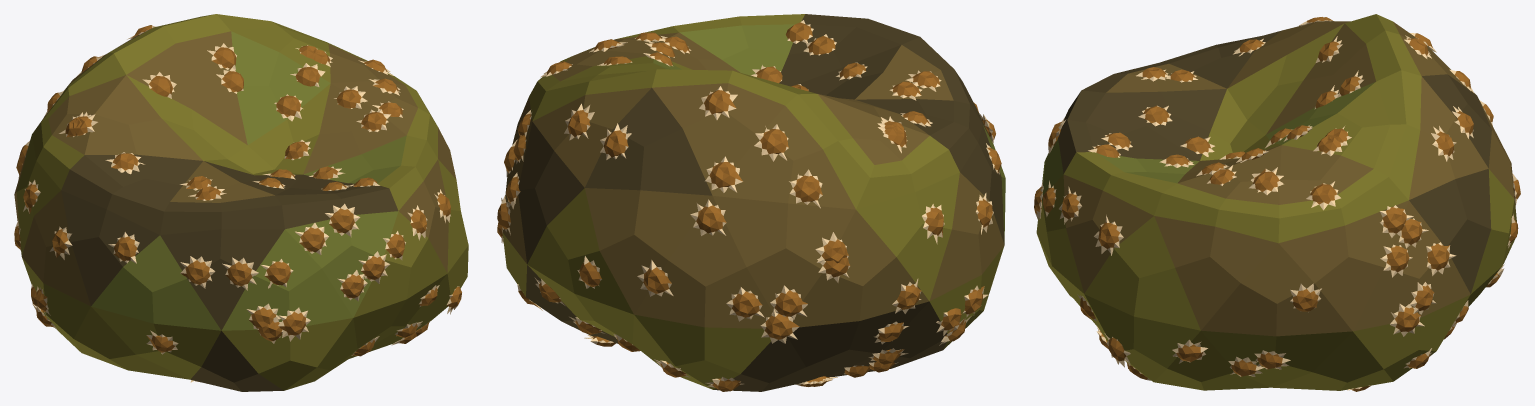
Rendered from easter-egg-cactus.fbx.
The picture shows the model from 3 angles, left to right: view 1: azimuth 30°, elevation 25°; view 2: azimuth 150°, elevation 25°; view 3: azimuth 270°, elevation 25°; orthographic projection. The views are drawn at different scales.
Parts seen in each view (by area): view 1: Icosphere, Icosphere|Icosphere.001|Dupli|39, Icosphere|Icosphere.001|Dupli|33, Icosphere|Icosphere.001|Dupli|36, Icosphere|Icosphere.001|Dupli|32, Icosphere|Icosphere.001|Dupli|40, Icosphere|Icosphere.001|Dupli|37, Icosphere|Icosphere.001|Dupli|31, Icosphere|Icosphere.001|Dupli|34, Icosphere|Icosphere.001|Dupli|38, Icosphere|Icosphere.001|Dupli|35, Icosphere|Icosphere.001|Dupli|83 (+11 smaller); view 2: Icosphere, Icosphere|Icosphere.001|Dupli|25, Icosphere|Icosphere.001|Dupli|14, Icosphere|Icosphere.001|Dupli|24, Icosphere|Icosphere.001|Dupli|16, Icosphere|Icosphere.001|Dupli|17, Icosphere|Icosphere.001|Dupli|27, Icosphere|Icosphere.001|Dupli|26, Icosphere|Icosphere.001|Dupli|15, Icosphere|Icosphere.001|Dupli|28, Icosphere|Icosphere.001|Dupli|12, Icosphere|Icosphere.001|Dupli|13 (+10 smaller); view 3: Icosphere, Icosphere|Icosphere.001|Dupli|20, Icosphere|Icosphere.001|Dupli|42, Icosphere|Icosphere.001|Dupli|18, Icosphere|Icosphere.001|Dupli|22, Icosphere|Icosphere.001|Dupli|23, Icosphere|Icosphere.001|Dupli|62, Icosphere|Icosphere.001|Dupli|98, Icosphere|Icosphere.001|Dupli|82, Icosphere|Icosphere.001|Dupli|21, Icosphere|Icosphere.001|Dupli|2, Icosphere|Icosphere.001|Dupli|19 (+5 smaller).
Boxes of the visible parts, <box> form: Icosphere: <box>14,14,468,391</box>; Icosphere|Icosphere.001|Dupli|39: <box>325,203,360,237</box>; Icosphere|Icosphere.001|Dupli|33: <box>222,257,258,290</box>; Icosphere|Icosphere.001|Dupli|36: <box>278,307,310,341</box>; Icosphere|Icosphere.001|Dupli|32: <box>180,256,215,288</box>; Icosphere|Icosphere.001|Dupli|40: <box>295,223,328,254</box>; Icosphere|Icosphere.001|Dupli|37: <box>358,251,390,283</box>; Icosphere|Icosphere.001|Dupli|31: <box>108,232,139,263</box>; Icosphere|Icosphere.001|Dupli|34: <box>261,259,293,288</box>; Icosphere|Icosphere.001|Dupli|38: <box>337,270,367,301</box>; Icosphere|Icosphere.001|Dupli|35: <box>246,303,280,335</box>; Icosphere|Icosphere.001|Dupli|83: <box>274,94,302,121</box>; Icosphere: <box>502,14,1005,391</box>; Icosphere|Icosphere.001|Dupli|25: <box>690,199,726,235</box>; Icosphere|Icosphere.001|Dupli|14: <box>705,156,742,192</box>; Icosphere|Icosphere.001|Dupli|24: <box>760,309,799,343</box>; Icosphere|Icosphere.001|Dupli|16: <box>789,169,822,208</box>; Icosphere|Icosphere.001|Dupli|17: <box>754,124,788,161</box>; Icosphere|Icosphere.001|Dupli|27: <box>726,287,764,321</box>; Icosphere|Icosphere.001|Dupli|26: <box>637,260,673,296</box>; Icosphere|Icosphere.001|Dupli|15: <box>699,86,737,120</box>; Icosphere|Icosphere.001|Dupli|28: <box>770,285,807,319</box>; Icosphere|Icosphere.001|Dupli|12: <box>600,123,631,159</box>; Icosphere|Icosphere.001|Dupli|13: <box>564,103,594,140</box>; Icosphere: <box>1036,14,1517,390</box>; Icosphere|Icosphere.001|Dupli|20: <box>1390,304,1424,336</box>; Icosphere|Icosphere.001|Dupli|42: <box>1094,215,1123,255</box>; Icosphere|Icosphere.001|Dupli|18: <box>1380,205,1413,237</box>; Icosphere|Icosphere.001|Dupli|22: <box>1380,244,1412,277</box>; Icosphere|Icosphere.001|Dupli|23: <box>1426,242,1456,275</box>; Icosphere|Icosphere.001|Dupli|62: <box>1290,283,1321,312</box>; Icosphere|Icosphere.001|Dupli|98: <box>1249,167,1283,194</box>; Icosphere|Icosphere.001|Dupli|82: <box>1306,181,1340,210</box>; Icosphere|Icosphere.001|Dupli|21: <box>1409,282,1435,314</box>; Icosphere|Icosphere.001|Dupli|2: <box>1172,339,1207,363</box>; Icosphere|Icosphere.001|Dupli|19: <box>1399,218,1428,248</box>.
Size of the model in its own units: 184 by 120 by 182.
